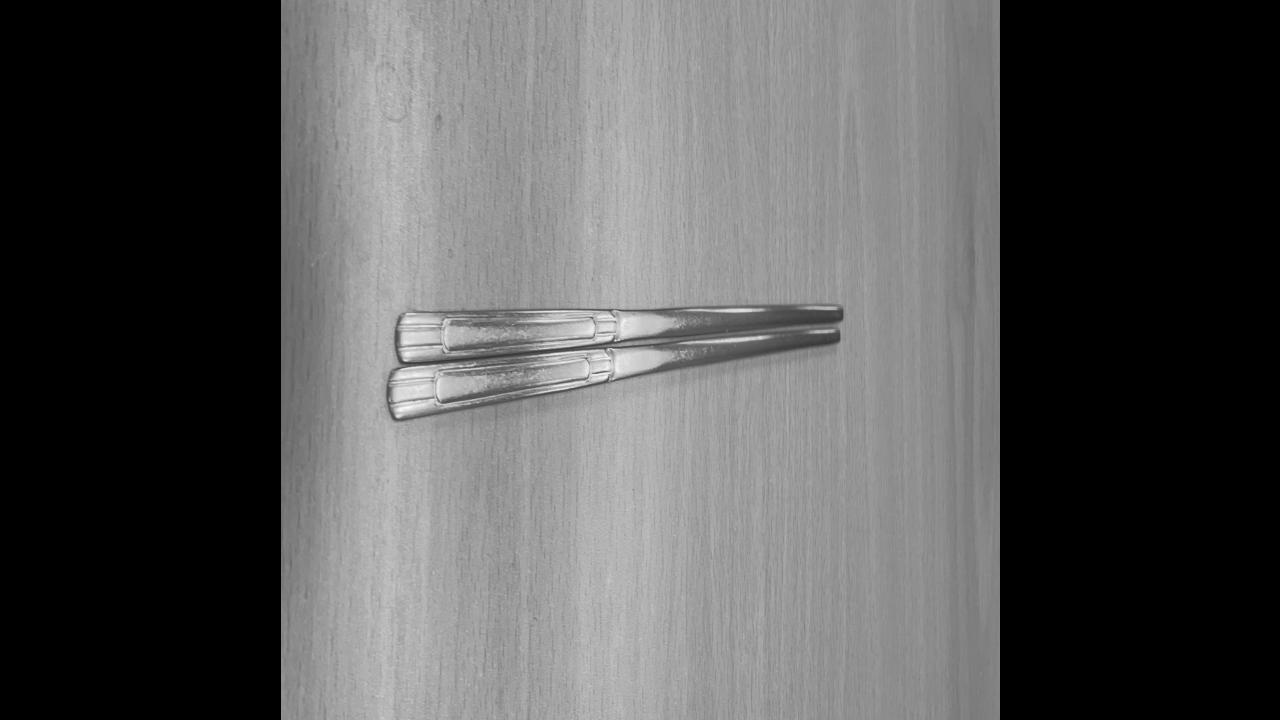chopstick: (388, 300, 842, 420)
